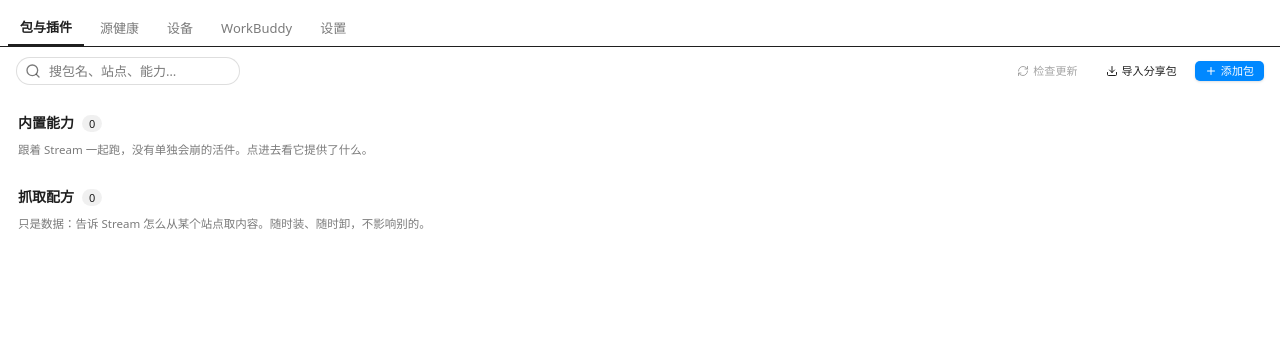
Test: DSH 设置里的 Stream 分区 › 有一页「手机」：列出已配对的手机，能在这里添加手机
Click the tab "设备": x=180, y=29 [155, 12, 205, 46]
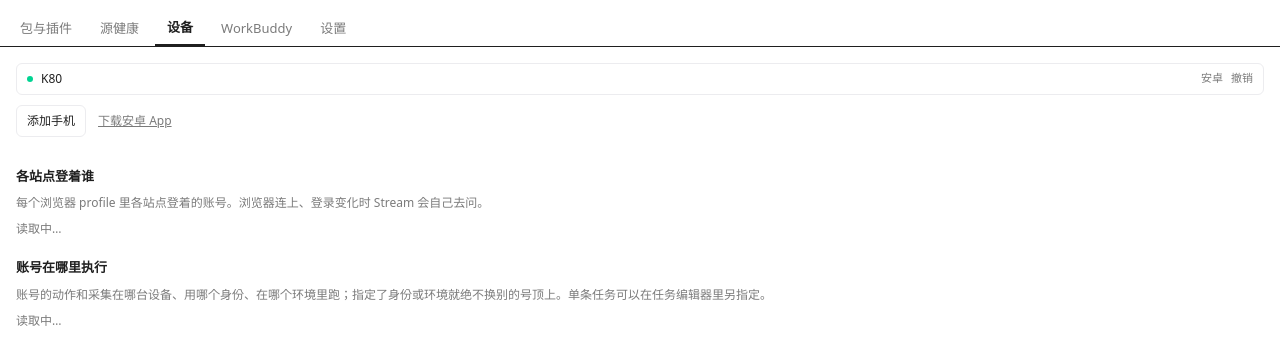
Check: the text "K80" is shown, box [41, 70, 62, 86]
Check: the button "添加手机" is shown, box [16, 104, 86, 136]
